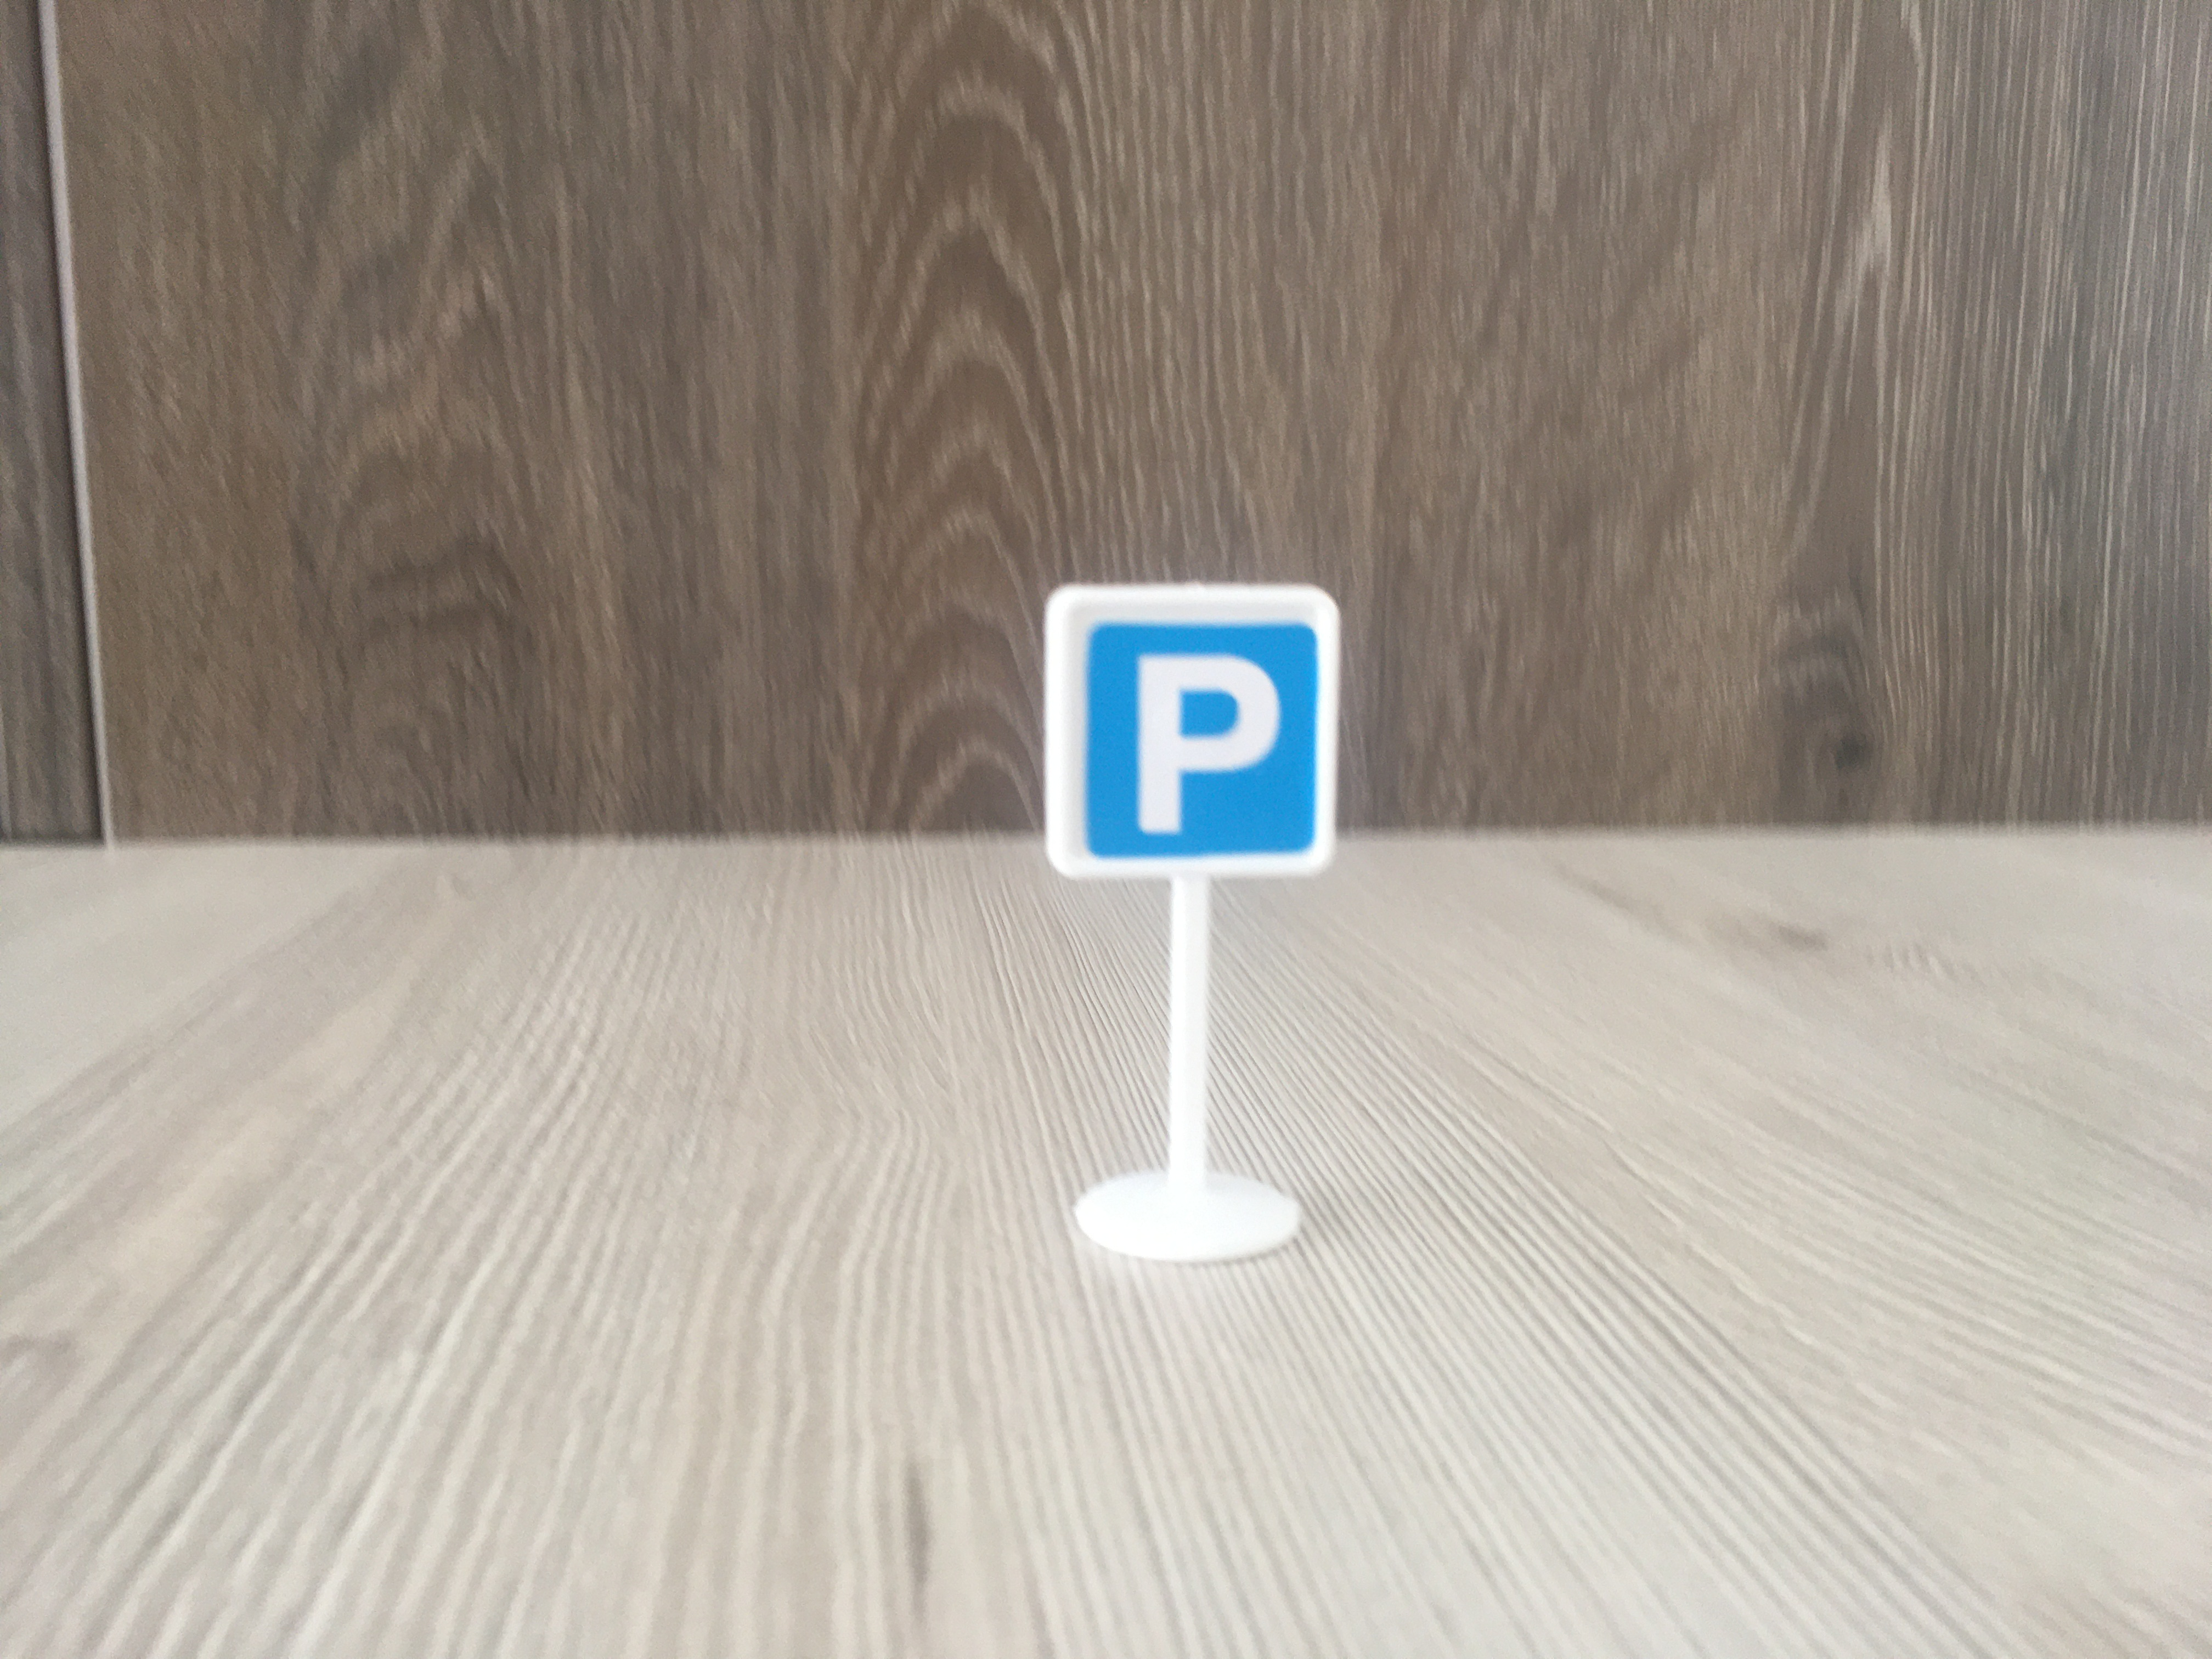parking: (1047, 587, 1338, 878)
